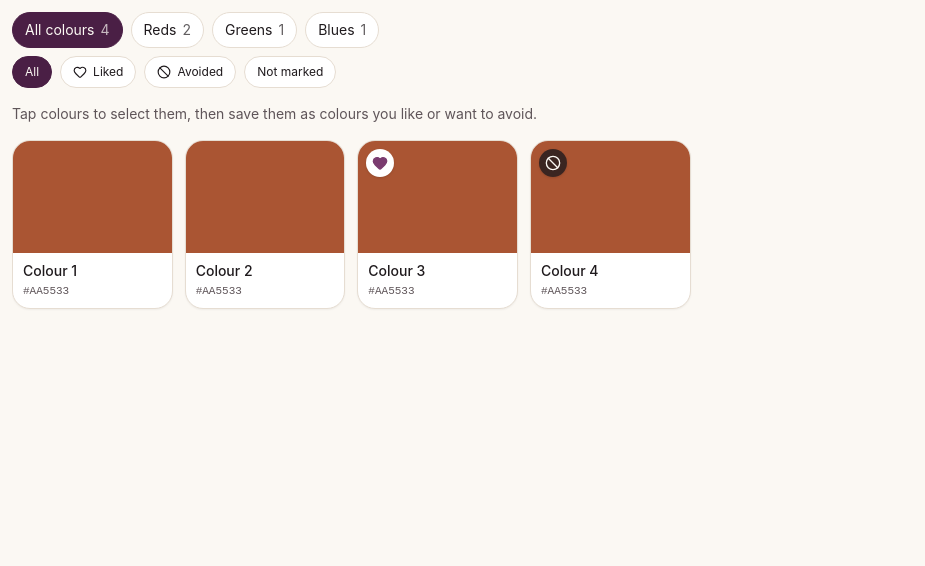
Test: ColourAlbum › keeps an error visible and the selection in place when saving fails
Click the checkbox named "Colour 1,".
click(92, 224)  # box [12, 140, 173, 308]
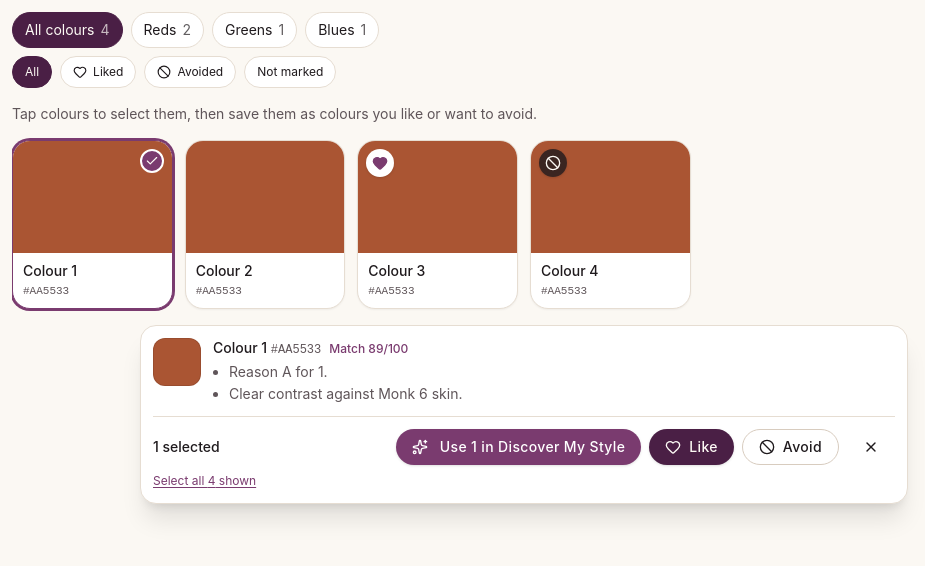
Click the button "Avoid".
click(790, 446)  # box [742, 428, 839, 464]
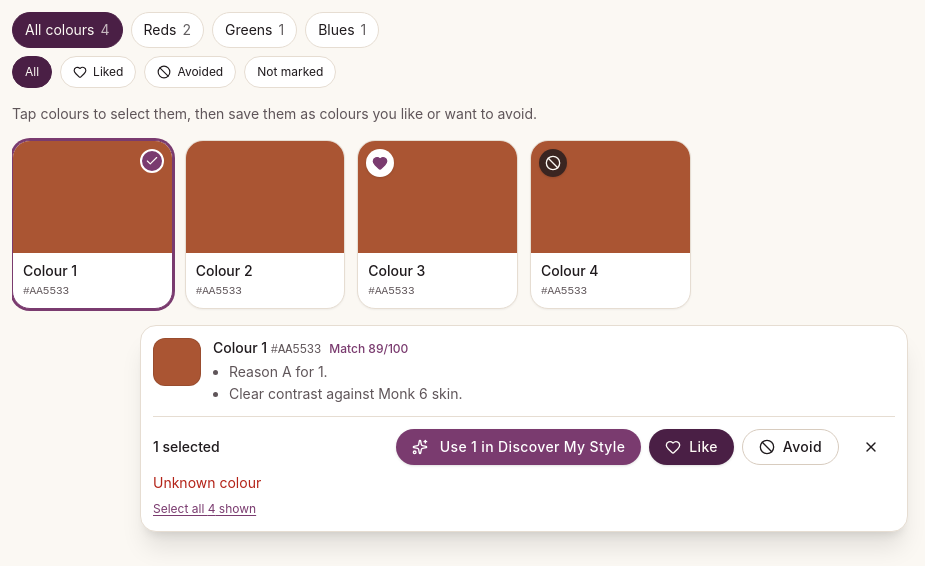
Result: the text "1 selected" is shown at [153, 436, 220, 456]
Result: the message reads "Unknown colour" at [153, 474, 261, 490]
